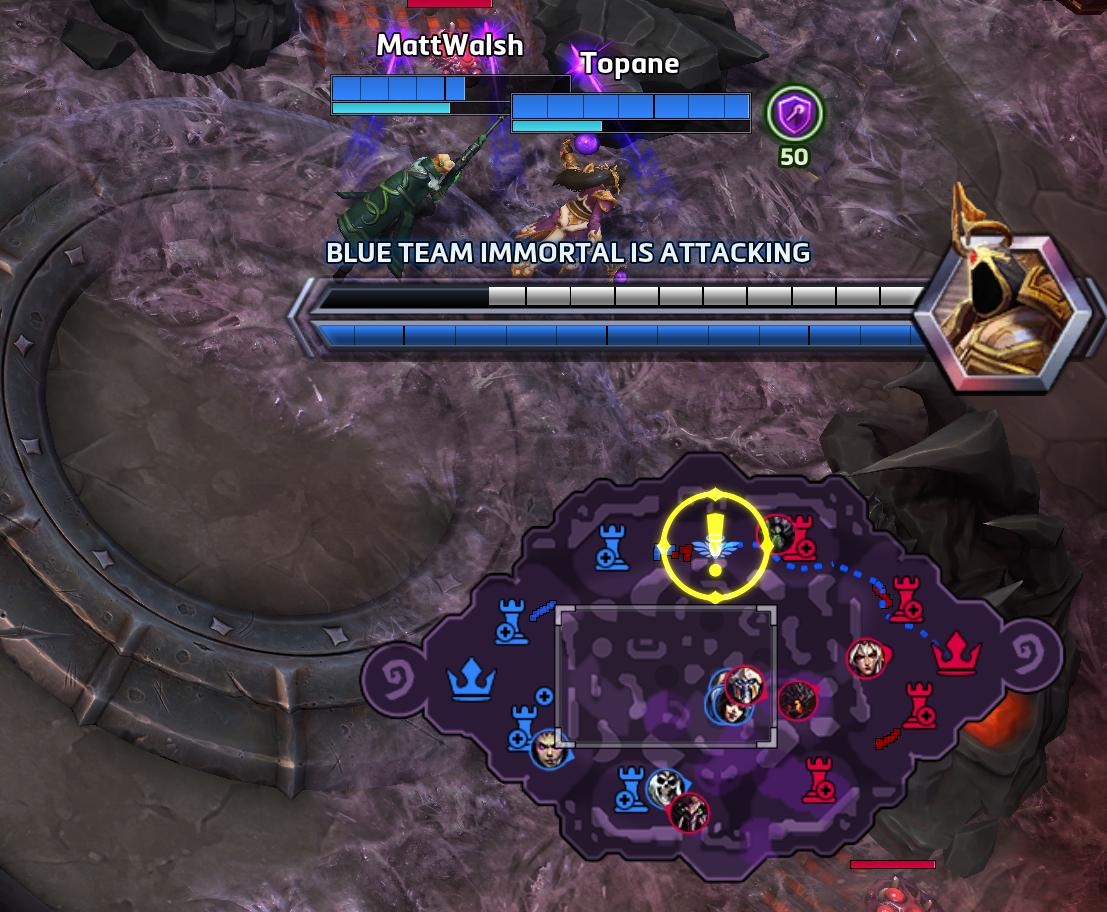red player: (846, 637, 892, 680), (667, 791, 710, 834), (724, 664, 767, 707), (778, 678, 819, 722), (763, 514, 796, 550)
